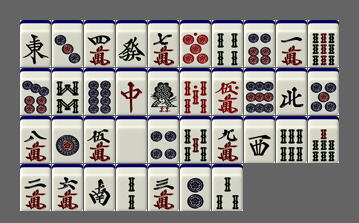0m: (212, 68, 243, 115)
0p: (180, 20, 211, 67)
0s: (180, 68, 211, 115)
1m: (276, 20, 307, 67)
1p: (52, 116, 83, 163)
1s: (148, 68, 179, 115)
1z: (20, 20, 51, 67)
2m: (20, 164, 51, 211)
2p: (180, 164, 211, 211)
2s: (116, 164, 147, 211)
2z: (84, 164, 115, 211)
3m: (148, 164, 179, 211)
3p: (52, 20, 83, 67)
3s: (212, 164, 243, 211)
3z: (244, 116, 275, 163)
4m: (84, 20, 115, 67)
4p: (148, 116, 179, 163)
4s: (212, 20, 243, 67)
4z: (276, 68, 307, 115)
5m: (84, 116, 115, 163)
5p: (308, 68, 339, 115)
5s: (180, 116, 211, 163)
5z: (116, 116, 147, 163)
6m: (52, 164, 83, 211)
6p: (244, 20, 275, 67)
6s: (276, 116, 307, 163)
6z: (116, 20, 147, 67)
7m: (148, 20, 179, 67)
7p: (20, 68, 51, 115)
7s: (308, 116, 339, 163)
7z: (116, 68, 147, 115)
8m: (20, 116, 51, 163)
8p: (84, 68, 115, 115)
8s: (52, 68, 83, 115)
9m: (212, 116, 243, 163)
9p: (244, 68, 275, 115)
9s: (308, 20, 339, 67)
